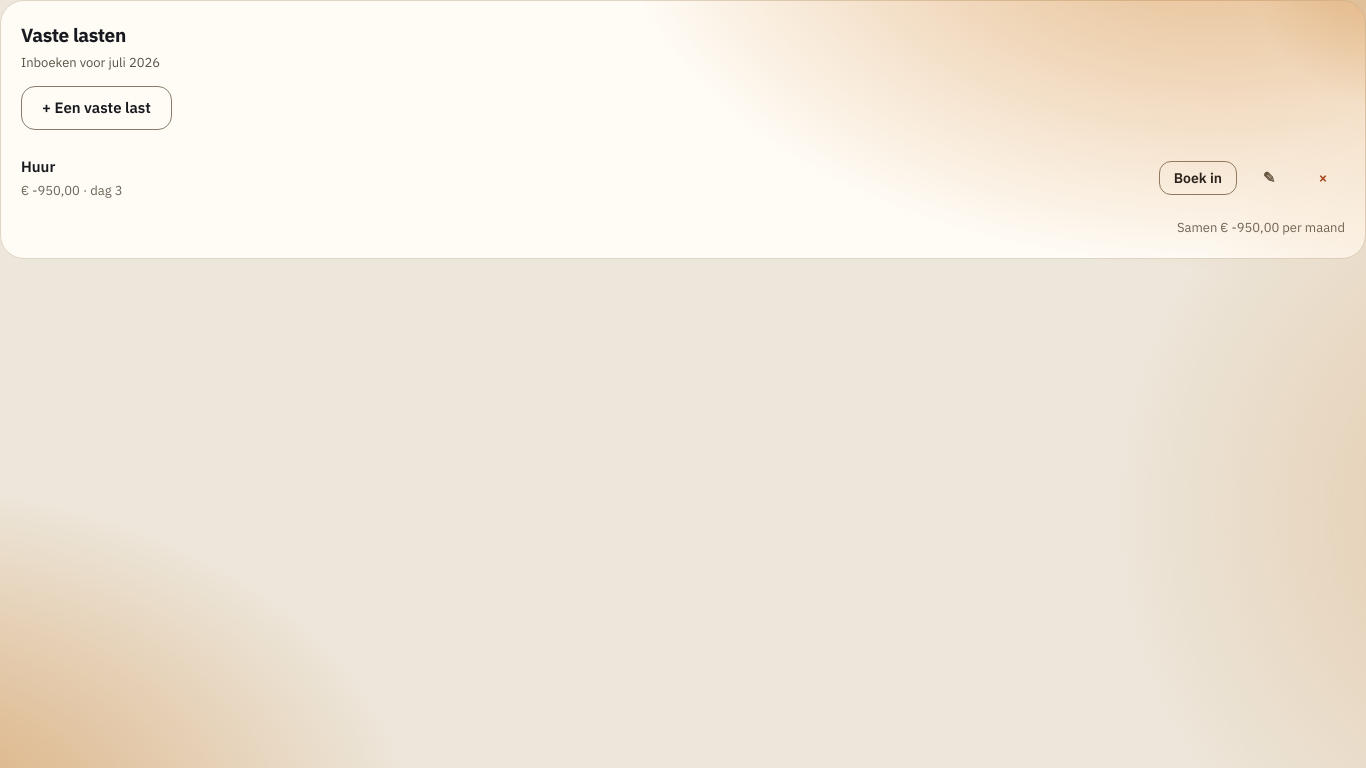
TerugkerendeSectie — het contractformulier › zegt met welke termijn ze zal rekenen, in maanden
Click the button "+ Een vaste last": click(96, 108) x1=21 y1=86 x2=172 y2=130
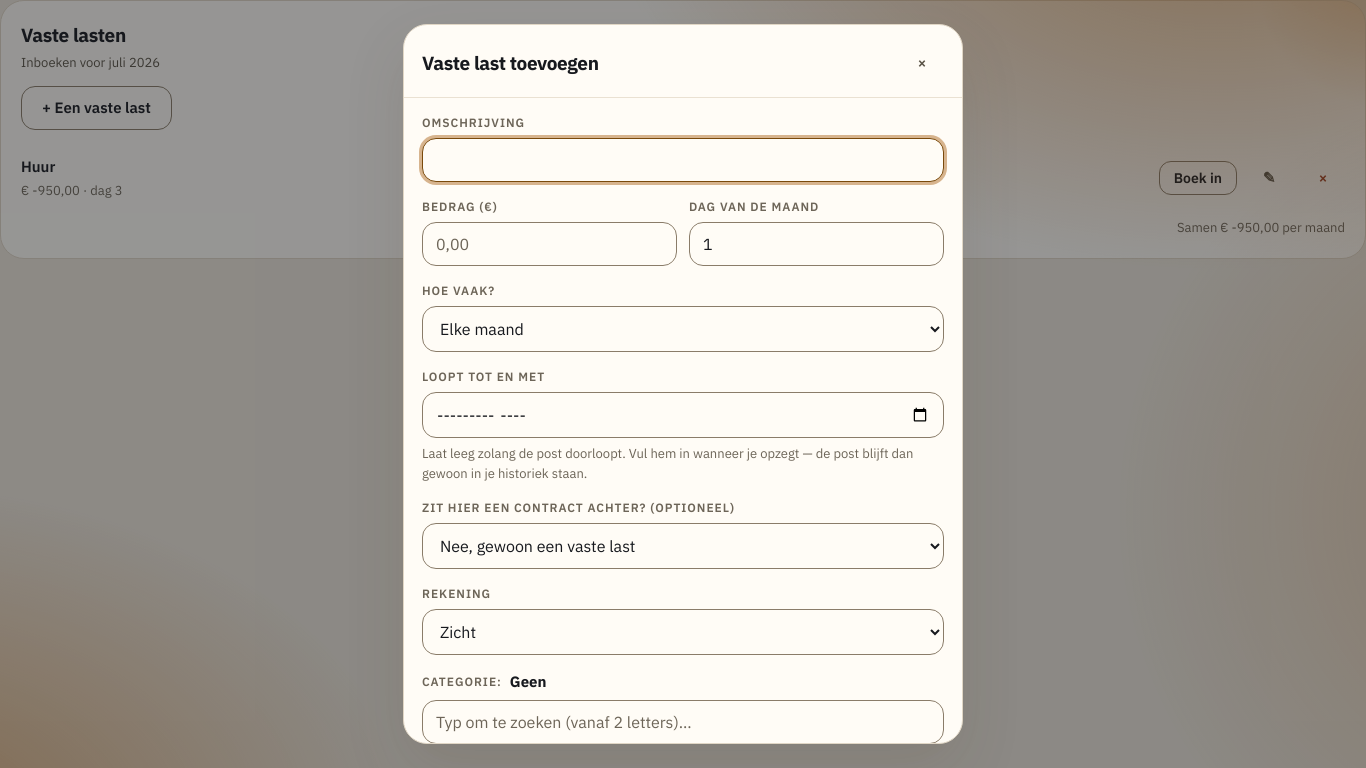
Select "Energie (elektriciteit of gas)" in the dropdown labelled "Zit hier een contract achter? (optioneel)": (683, 546) x1=422 y1=523 x2=944 y2=569
(page scrolled)
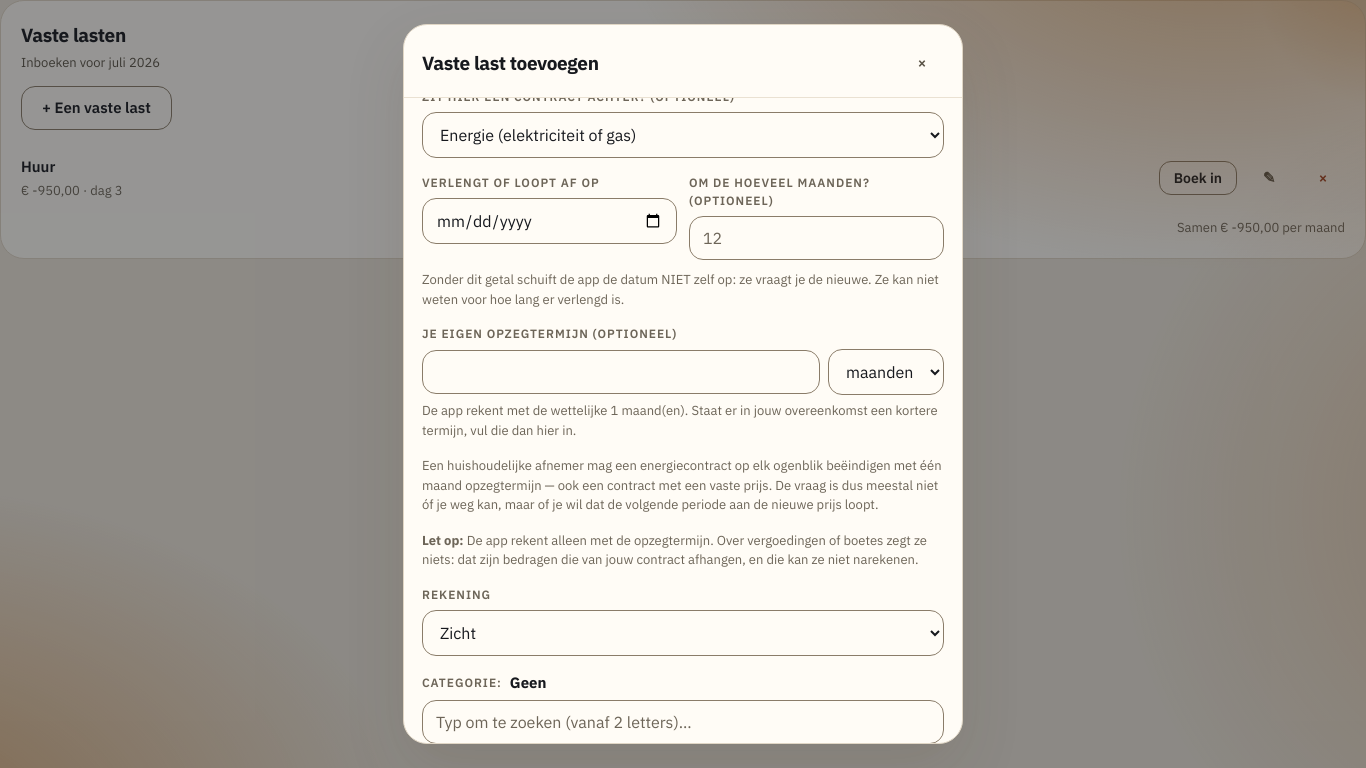
Result: the text "De app rekent met de wettelijke 1 maand(en)" is shown at x1=422 y1=402 x2=938 y2=438
